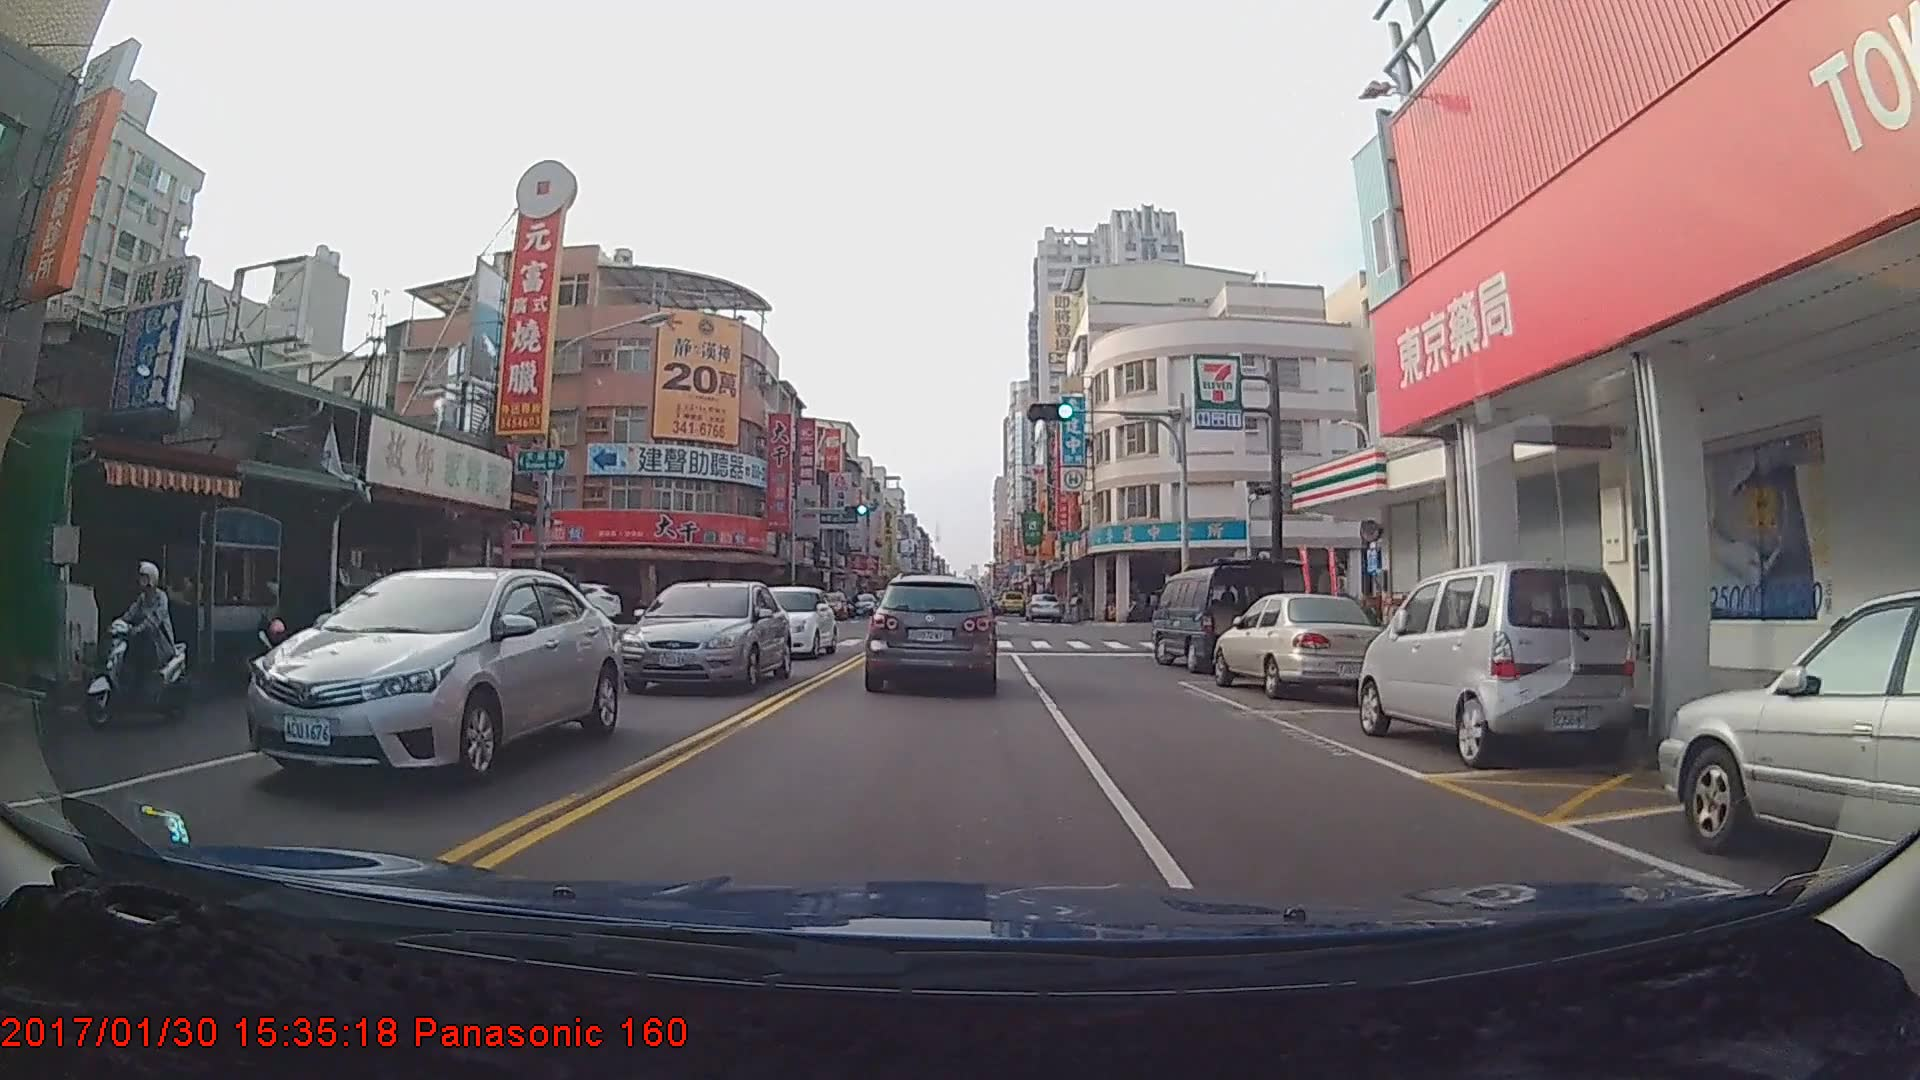rider: (78, 560, 199, 731)
vehicle: (241, 564, 630, 798), (1655, 590, 1920, 902), (1362, 557, 1635, 765), (626, 575, 790, 693), (1213, 591, 1383, 701), (867, 573, 996, 692), (1149, 566, 1288, 674), (747, 584, 837, 657), (811, 588, 845, 620), (1024, 592, 1062, 621), (845, 593, 877, 616), (997, 591, 1026, 612)
